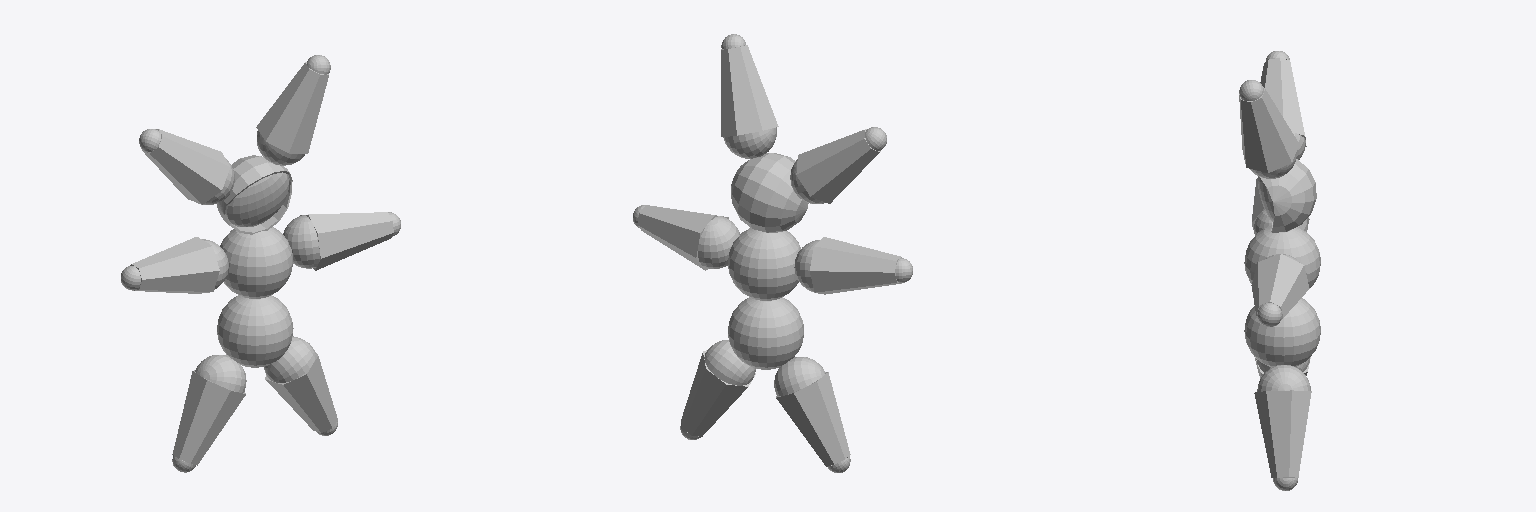
File: MicroRobot.obj
The picture shows the model from 3 angles: view 1: azimuth 30°, elevation 25°; view 2: azimuth 150°, elevation 25°; view 3: azimuth 270°, elevation 25°; orthographic projection.
Parts seen in each view (by area): view 1: initialShadingGroup pasted__MicroRobot pasted__Surface_de_subdiv, MicroRobot Surface_de_subdivision_3 initialShadingGroup right_le, initialShadingGroup pasted__pasted__MicroRobot2 pasted__pasted__, initialShadingGroup pasted__MicroRobot pasted__Pond pasted__Surf, initialShadingGroup pasted__MicroRobot2 pasted__Surface_de_subdi, initialShadingGroup pasted__MicroRobot1 pasted__Surface_de_subdi, initialShadingGroup pasted__MicroRobot pasted__Stomach pasted__S; view 2: initialShadingGroup pasted__MicroRobot pasted__Surface_de_subdiv, MicroRobot Surface_de_subdivision_3 initialShadingGroup right_le, initialShadingGroup pasted__MicroRobot2 pasted__Surface_de_subdi, initialShadingGroup pasted__MicroRobot pasted__Pond pasted__Surf, initialShadingGroup pasted__MicroRobot1 pasted__Surface_de_subdi, initialShadingGroup pasted__pasted__MicroRobot2 pasted__pasted__, initialShadingGroup pasted__MicroRobot pasted__Stomach pasted__S; view 3: initialShadingGroup pasted__MicroRobot pasted__Surface_de_subdiv, initialShadingGroup pasted__MicroRobot pasted__Pond pasted__Surf, initialShadingGroup pasted__pasted__MicroRobot2 pasted__pasted__, initialShadingGroup pasted__MicroRobot pasted__Stomach pasted__S, initialShadingGroup pasted__MicroRobot1 pasted__Surface_de_subdi, initialShadingGroup pasted__MicroRobot2 pasted__Surface_de_subdi.
Boxes of the visible parts, x1,y1,x2,y2 form: initialShadingGroup pasted__MicroRobot pasted__Surface_de_subdiv: [217, 55, 337, 435]; MicroRobot Surface_de_subdivision_3 initialShadingGroup right_le: [172, 355, 246, 472]; initialShadingGroup pasted__pasted__MicroRobot2 pasted__pasted__: [283, 212, 400, 270]; initialShadingGroup pasted__MicroRobot pasted__Pond pasted__Surf: [217, 295, 293, 367]; initialShadingGroup pasted__MicroRobot2 pasted__Surface_de_subdi: [121, 237, 228, 293]; initialShadingGroup pasted__MicroRobot1 pasted__Surface_de_subdi: [139, 129, 234, 204]; initialShadingGroup pasted__MicroRobot pasted__Stomach pasted__S: [220, 226, 293, 298]; initialShadingGroup pasted__MicroRobot pasted__Surface_de_subdiv: [680, 34, 808, 439]; MicroRobot Surface_de_subdivision_3 initialShadingGroup right_le: [774, 357, 850, 472]; initialShadingGroup pasted__MicroRobot2 pasted__Surface_de_subdi: [794, 237, 912, 294]; initialShadingGroup pasted__MicroRobot pasted__Pond pasted__Surf: [728, 297, 803, 369]; initialShadingGroup pasted__MicroRobot1 pasted__Surface_de_subdi: [790, 127, 886, 203]; initialShadingGroup pasted__pasted__MicroRobot2 pasted__pasted__: [633, 205, 739, 270]; initialShadingGroup pasted__MicroRobot pasted__Stomach pasted__S: [728, 228, 800, 300]; initialShadingGroup pasted__MicroRobot pasted__Surface_de_subdiv: [1239, 80, 1316, 490]; initialShadingGroup pasted__MicroRobot pasted__Pond pasted__Surf: [1244, 298, 1320, 367]; initialShadingGroup pasted__pasted__MicroRobot2 pasted__pasted__: [1251, 254, 1309, 326]; initialShadingGroup pasted__MicroRobot pasted__Stomach pasted__S: [1244, 225, 1320, 287]; initialShadingGroup pasted__MicroRobot1 pasted__Surface_de_subdi: [1260, 51, 1306, 159]; initialShadingGroup pasted__MicroRobot2 pasted__Surface_de_subdi: [1252, 178, 1309, 235].
Size of the model in its own units: 10.93 by 14.96 by 2.81.